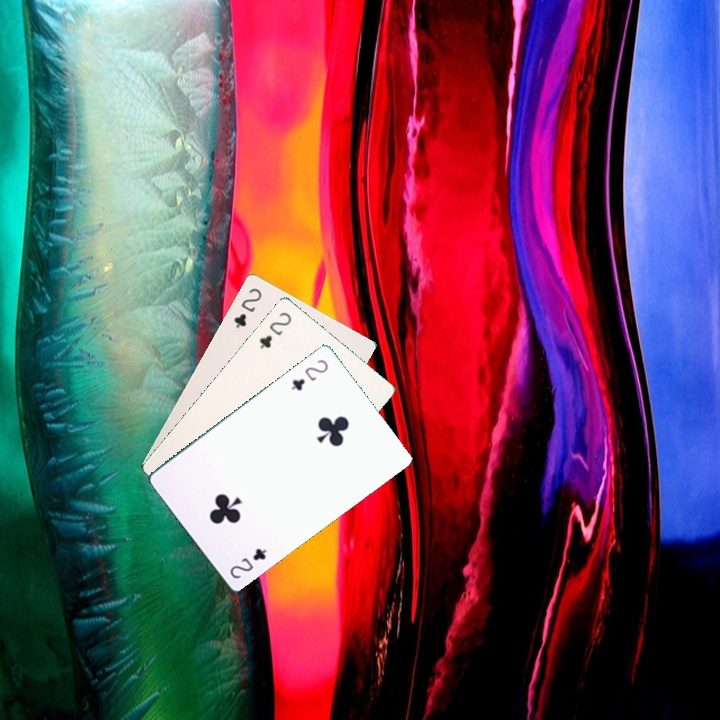2c: (255, 308, 294, 351), (287, 355, 331, 393), (230, 284, 265, 331), (226, 544, 269, 581)
